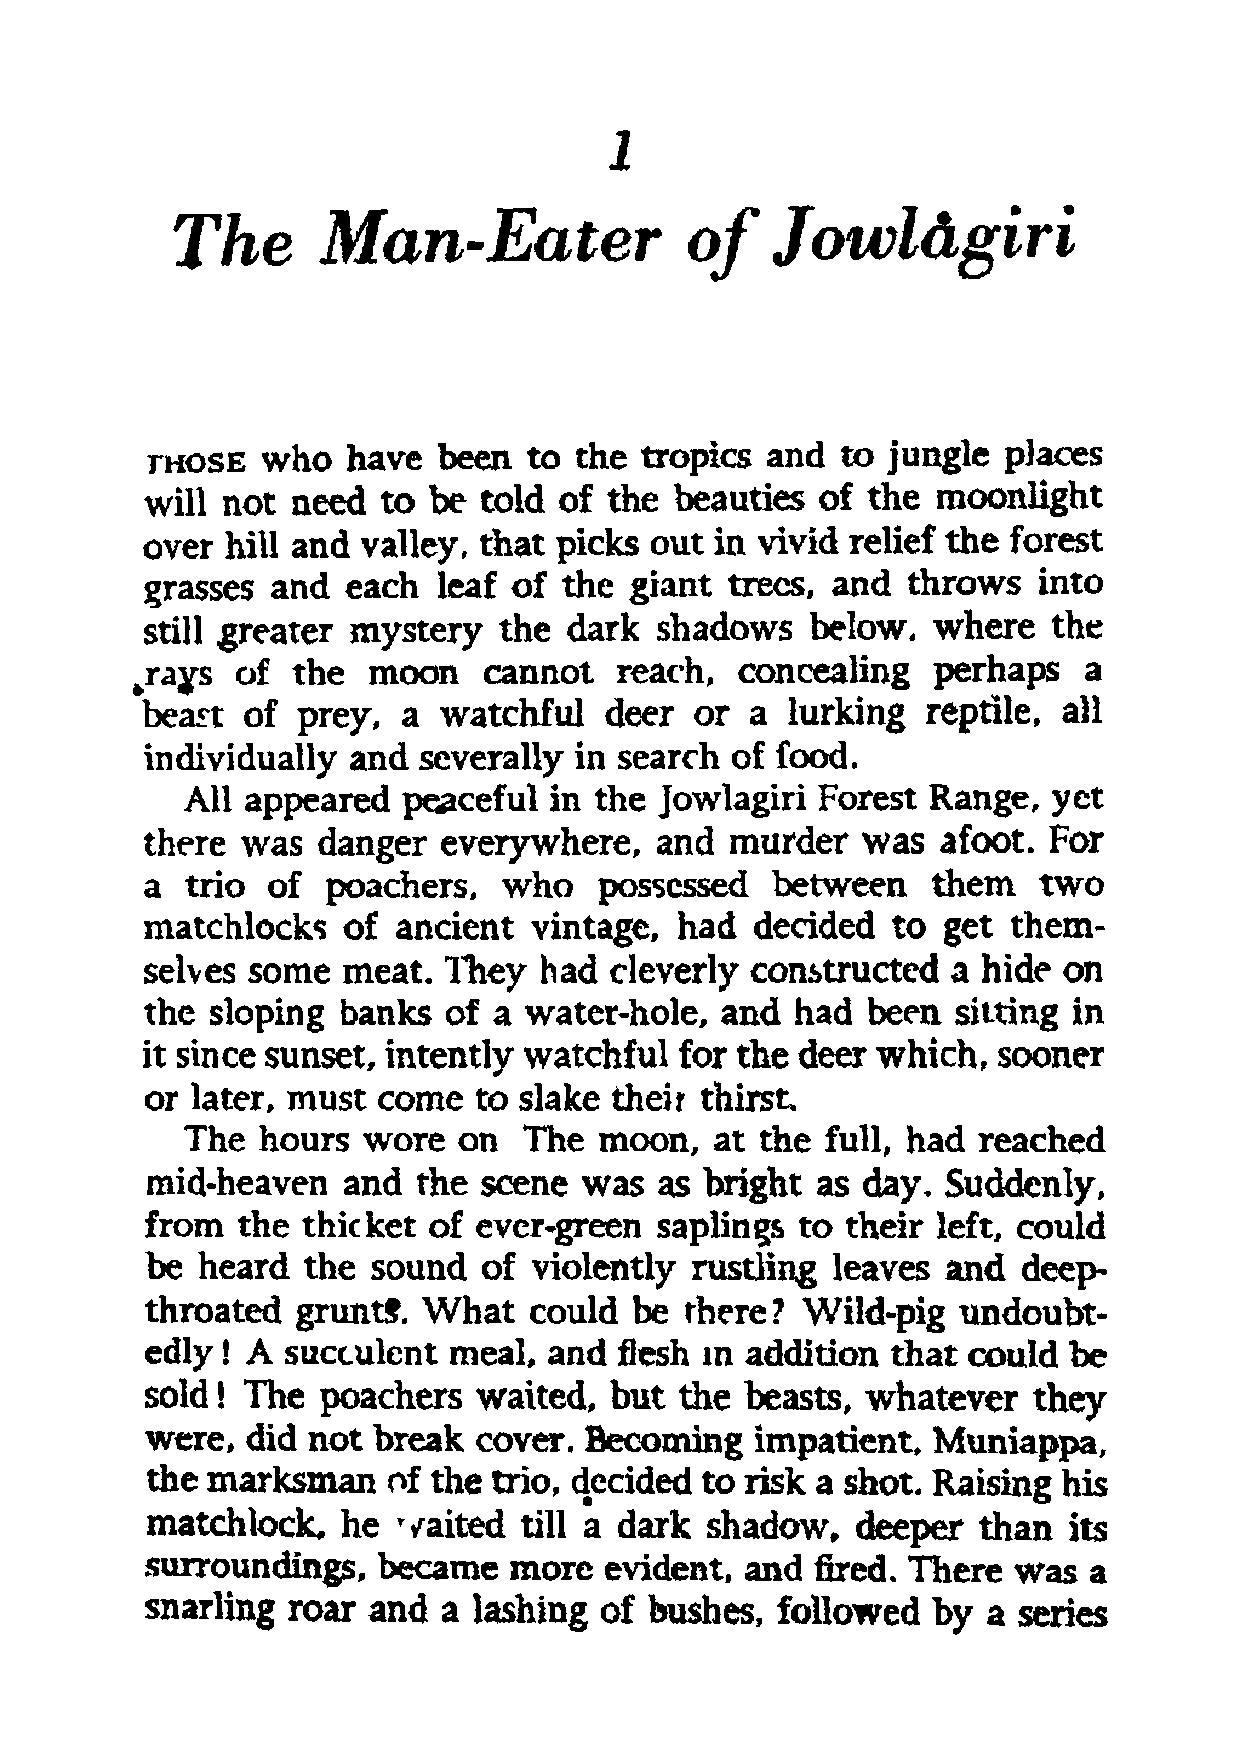chapter: (168, 125, 1076, 285)
content: (140, 437, 1108, 1635)
